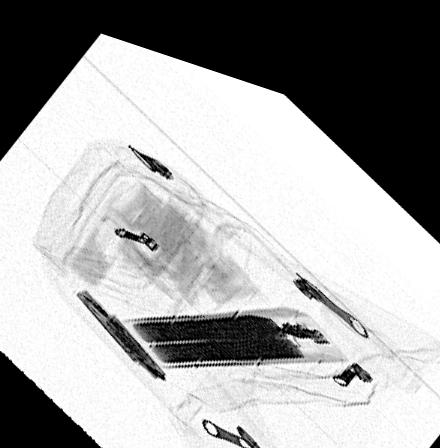Powerbank: (121, 287, 347, 356)
